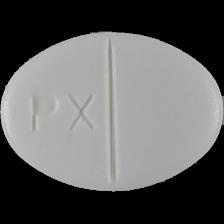68462-331: (0, 0, 224, 224)
